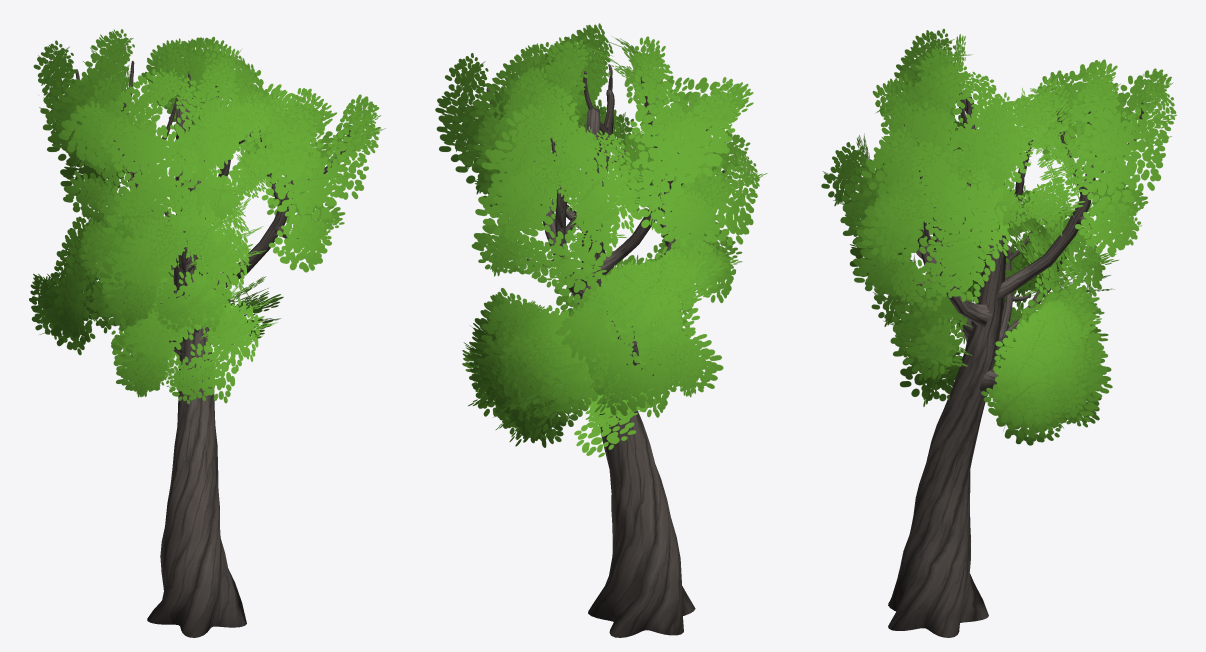
File: Twisted_Tree_Green.glb
The picture shows the model from 3 angles, left to right: view 1: azimuth 30°, elevation 25°; view 2: azimuth 150°, elevation 25°; view 3: azimuth 270°, elevation 25°; orthographic projection. The views are drawn at different scales.
Visible parts, largest first — view 1: TwistedTree_5; view 2: TwistedTree_5; view 3: TwistedTree_5.
Part boxes in pixels (x1,y1,x2,y2): TwistedTree_5: (29, 29, 385, 637); TwistedTree_5: (435, 23, 767, 637); TwistedTree_5: (821, 28, 1176, 637).
Bounding box in the file's own units: 9.49 × 15.66 × 9.39.
Materials: 2 (2 with a texture image).
